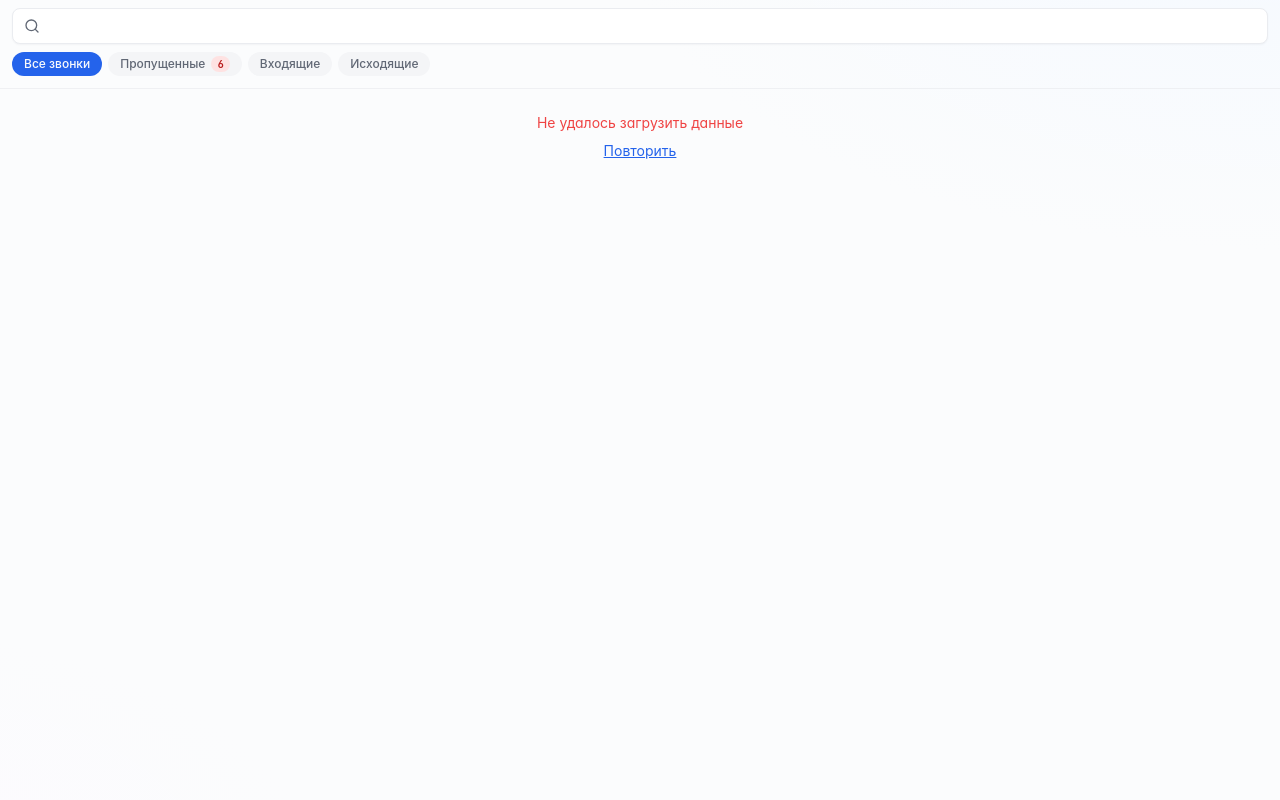
Test: shows a failed request separately from an empty history and allows retrying
expect the text "Не удалось загрузить данные" is shown: met, box [537,114,743,131]
What coordinates should you click on to do the following:
click the button "Повторить"
I would click on:
 (640, 151)
Its box is [604,141,676,161].
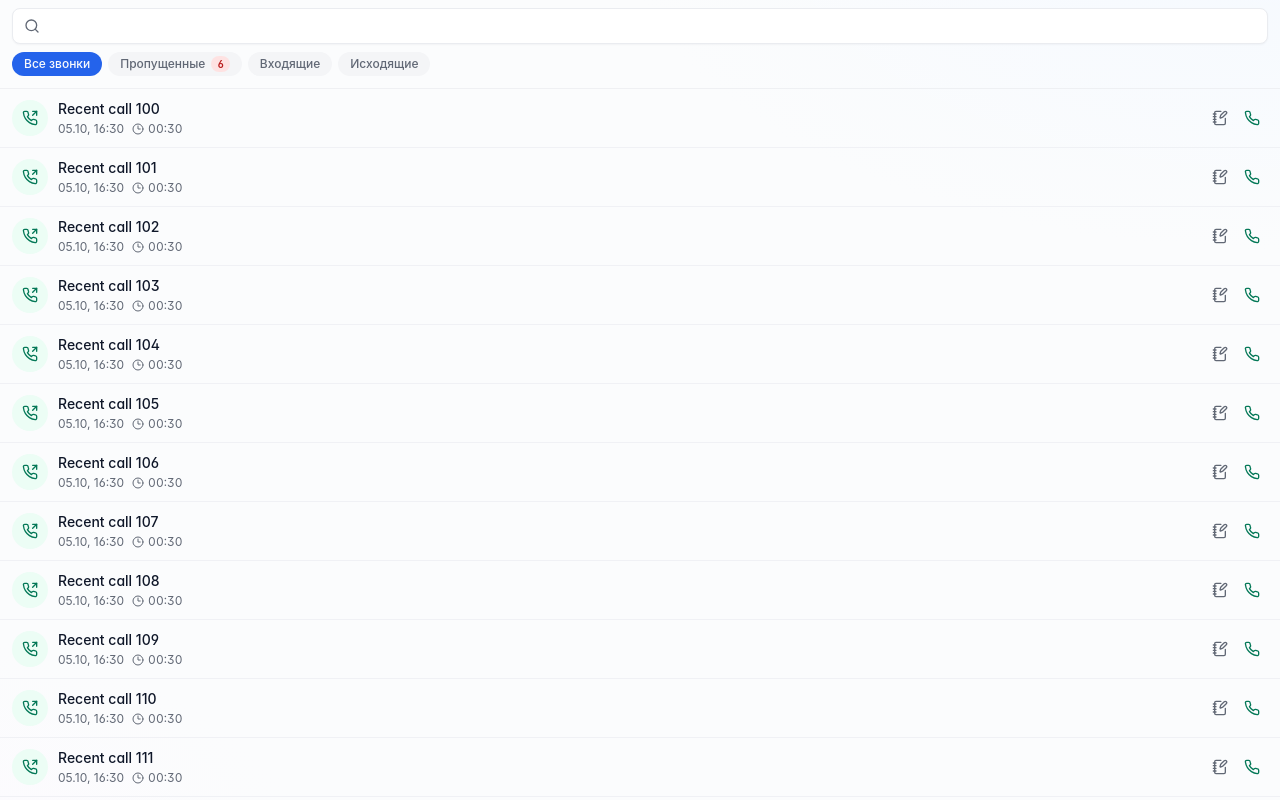
expect the text "Recent call 100" is shown: met, box [58,100,160,117]
expect the text "Не удалось загрузить данные" is gone: met
